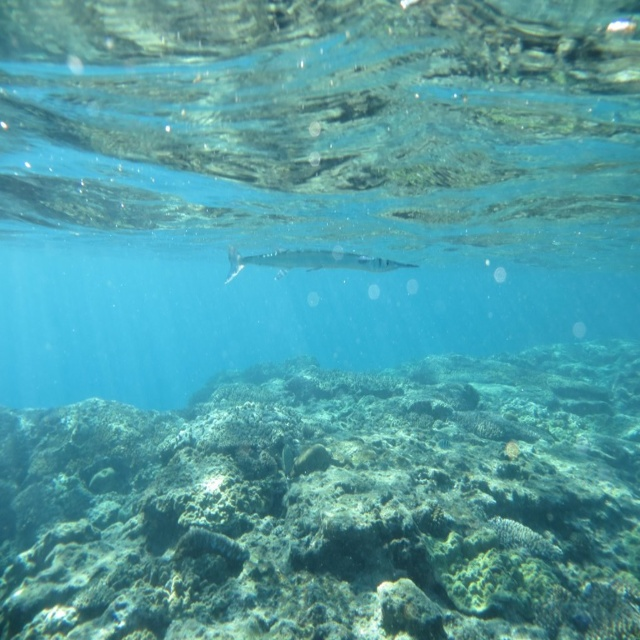Fish: (221, 245, 417, 287)
